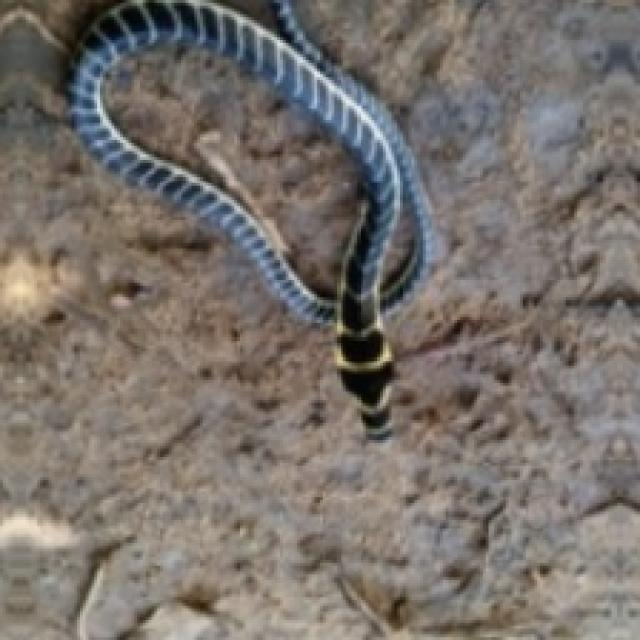king cobra: (69, 0, 431, 434), (100, 43, 366, 297)
